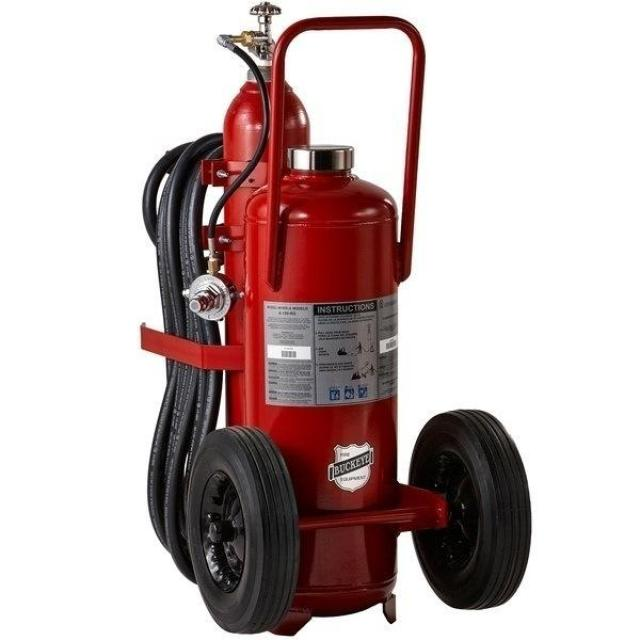fire_extinguisher: (124, 0, 413, 639)
